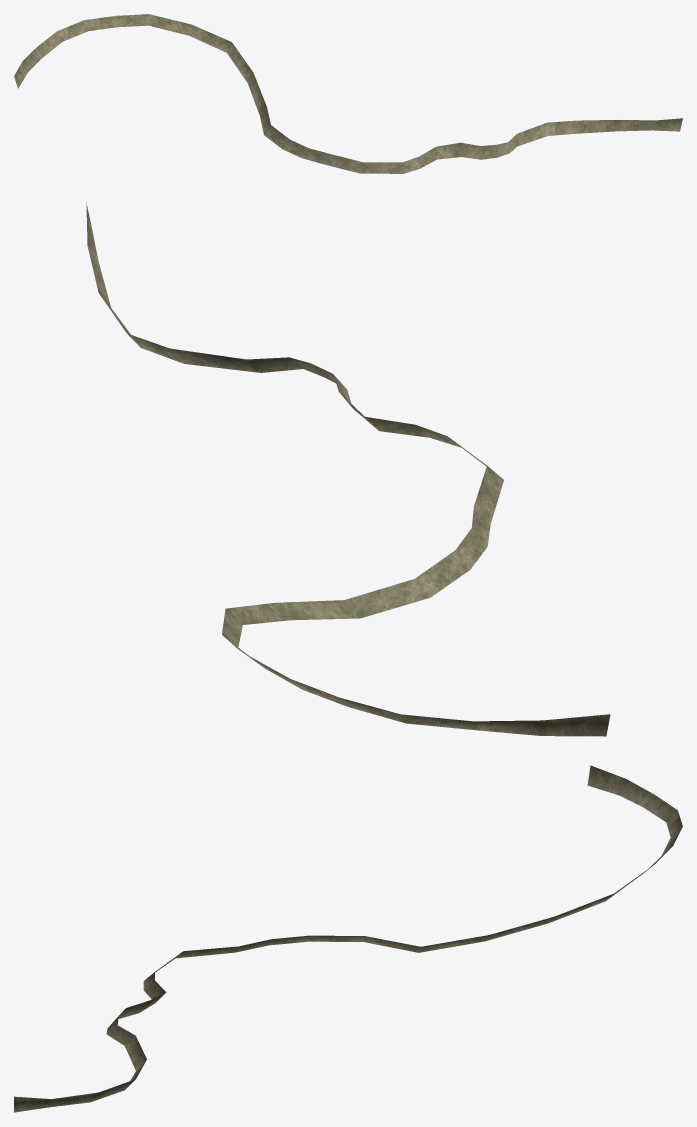
File: EKH_JAIL_PS_JA_BASE_TRIM11029.fbx
3 views of the same model, one above another, from view 1: azimuth 30°, elevation 25°; view 2: azimuth 150°, elevation 25°; view 3: azimuth 270°, elevation 25° (orthographic). The views are drawn at different scales.
Visible parts, largest first — view 1: EKH_JAIL_PS_JA_BASE_TRIM11029; view 2: EKH_JAIL_PS_JA_BASE_TRIM11029; view 3: EKH_JAIL_PS_JA_BASE_TRIM11029.
Boxes of the visible parts, x1,y1,x2,y2 form: EKH_JAIL_PS_JA_BASE_TRIM11029: (14,14,682,173); EKH_JAIL_PS_JA_BASE_TRIM11029: (86,203,610,736); EKH_JAIL_PS_JA_BASE_TRIM11029: (14,765,682,1112).
Size of the model in its own units: 282078 by 28311 by 247800.
Materials: 1 (1 with a texture image).
